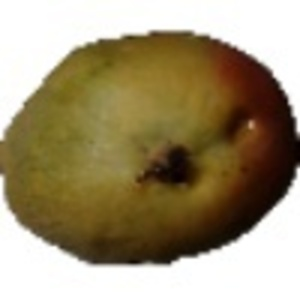mamão: (1, 19, 298, 272)
